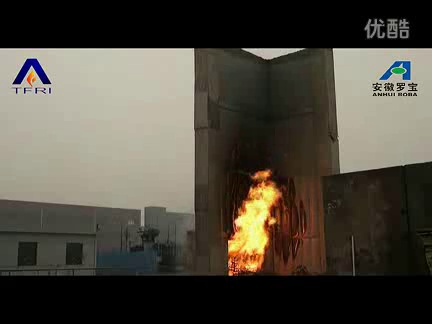fire: (227, 165, 284, 274)
